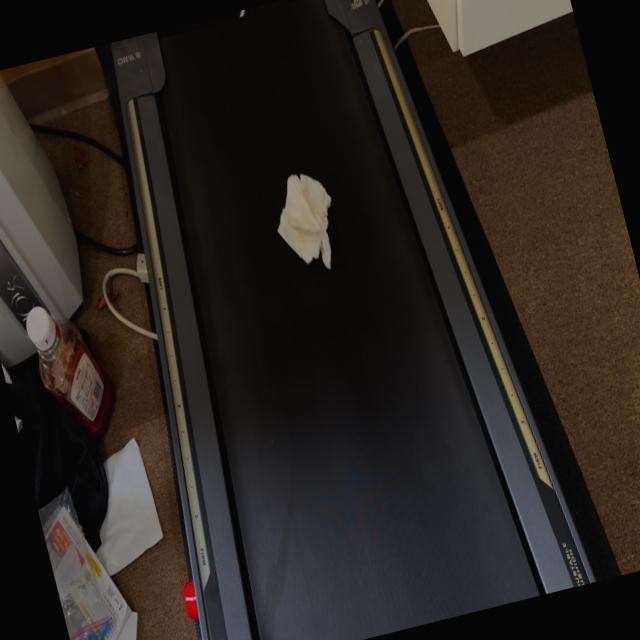Recycle: (264, 166, 350, 283)
